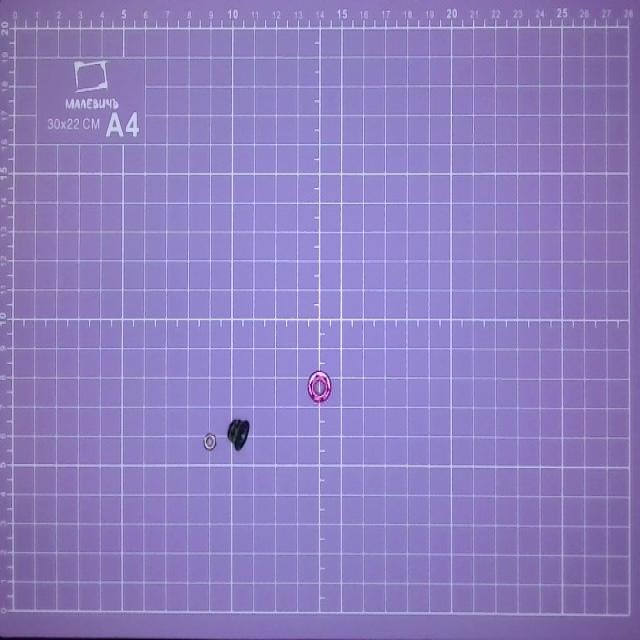screw_M3: (201, 428, 219, 452)
screw_M5: (304, 367, 344, 405), (225, 416, 251, 454)
